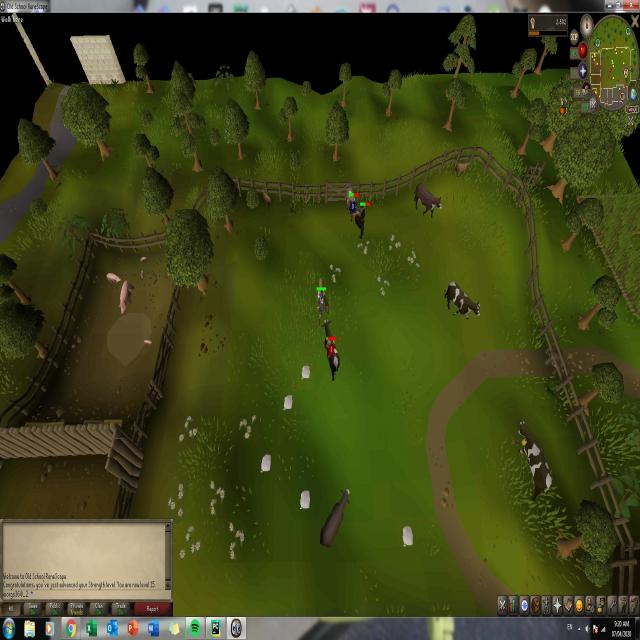cow: (319, 486, 350, 548), (440, 278, 481, 320), (412, 182, 444, 220), (320, 320, 340, 380), (344, 188, 359, 221)
player: (317, 288, 326, 323)
